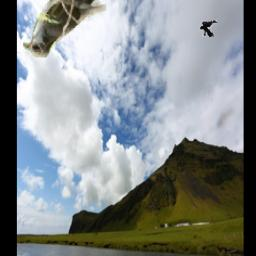Crow: (199, 20, 217, 37)
Cuckoo: (23, 0, 106, 57)
